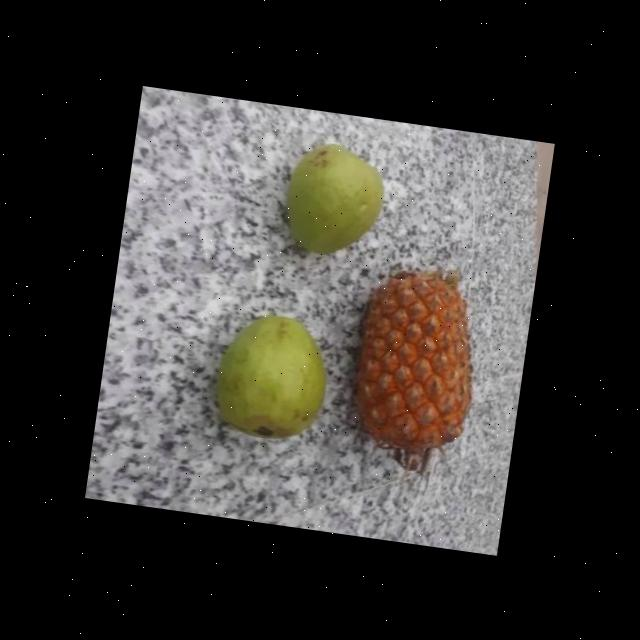guava: (212, 309, 332, 453), (281, 138, 388, 264)
pineapple: (340, 262, 489, 462)
